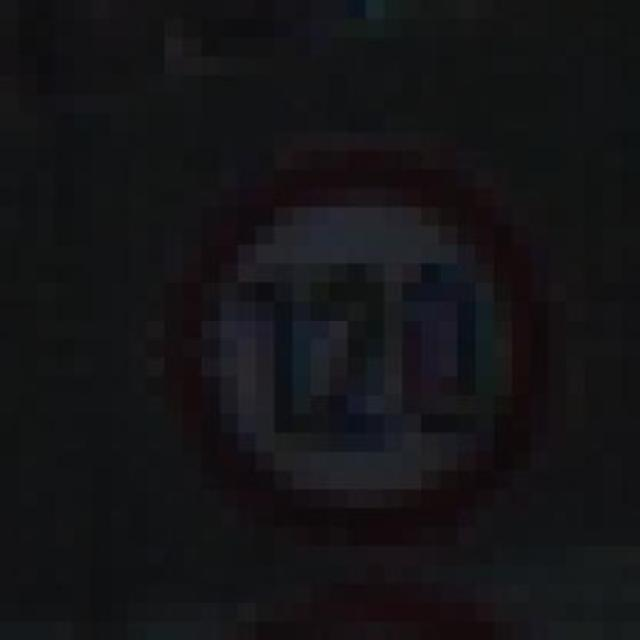forb_speed_over_120: (182, 160, 540, 540)
